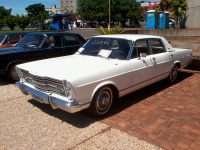car: (16, 34, 193, 116), (1, 32, 86, 81)
